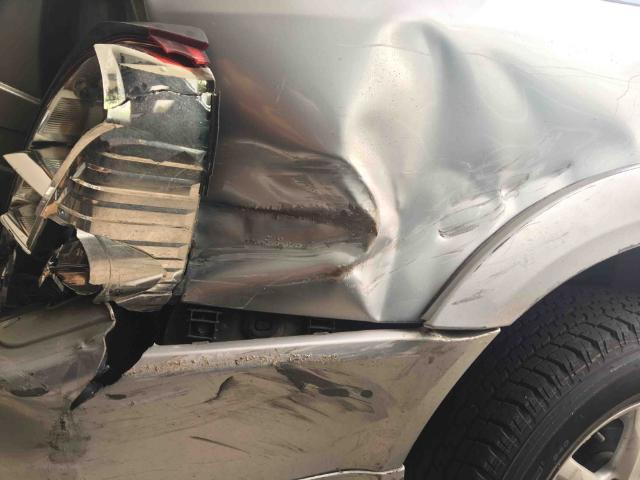crack: (70, 304, 151, 411)
dent: (184, 18, 635, 321)
lamp broken: (0, 36, 216, 315)
scratch: (0, 353, 402, 480), (455, 209, 571, 306)
